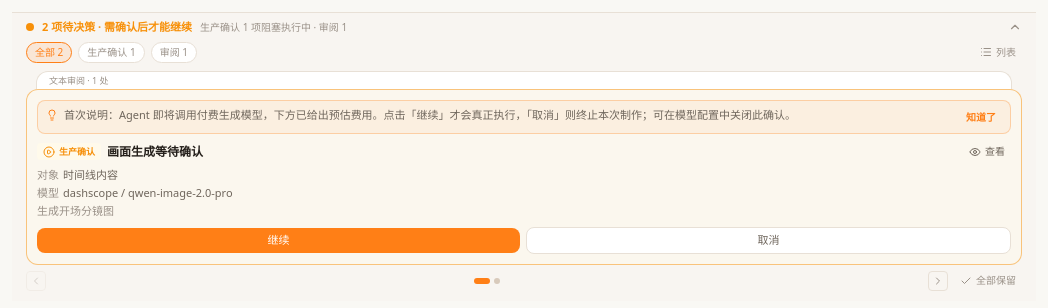
Test case: DecisionTray › navigates the stack with the next arrow and focuses the review card
Click the button named "下一条决策".
click(938, 280)  # box [928,270,948,290]
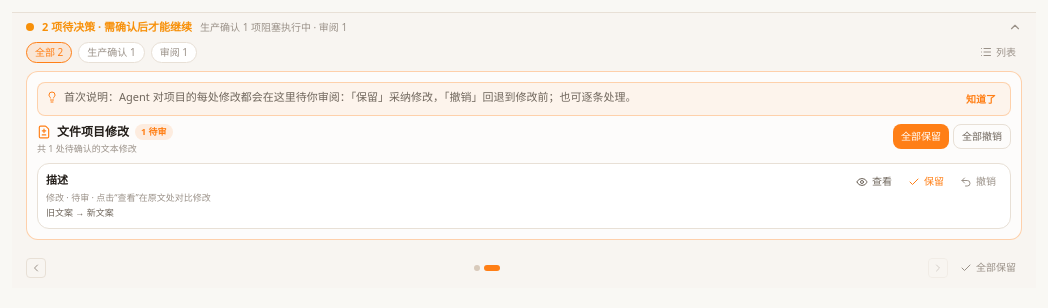
Expected: the text "旧文案 → 新文案" is shown, [46,206,114,219]
Expected: the button named "下一条决策" is disabled, [928,258,948,278]
Expected: the button named "上一条决策" is enabled, [26,258,46,278]
